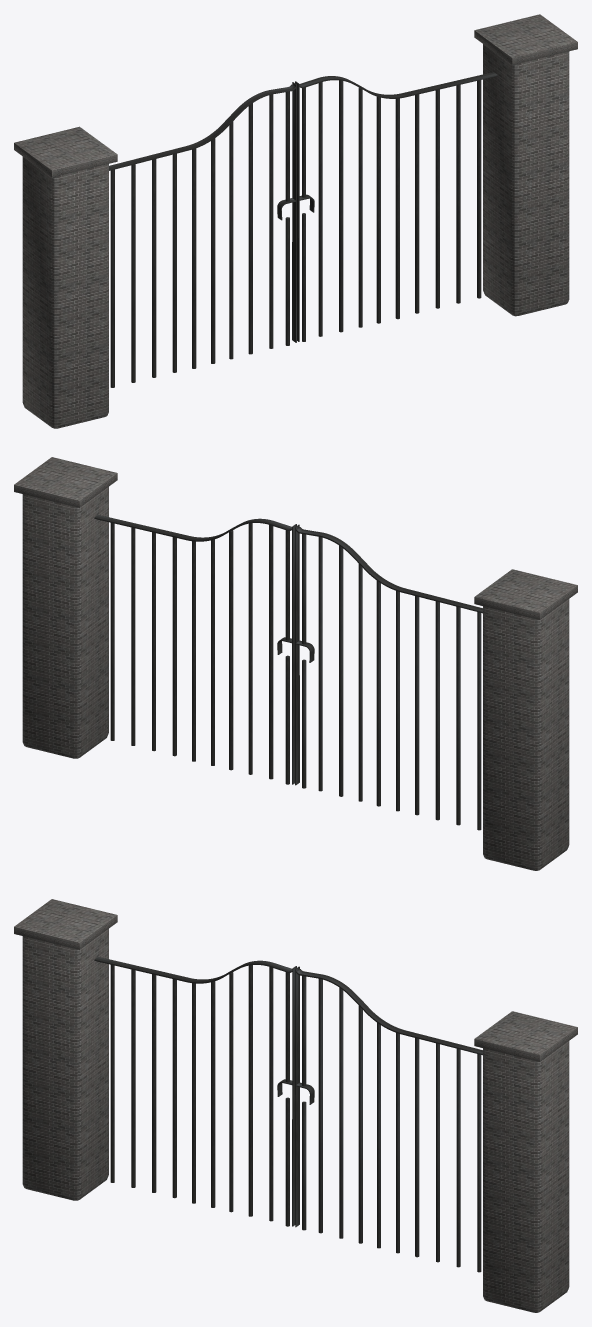
Rendered from GATE.fbx.
The picture shows the model from 3 angles, top to bottom: view 1: azimuth 30°, elevation 25°; view 2: azimuth 150°, elevation 25°; view 3: azimuth 330°, elevation 25°; orthographic projection.
Visible parts, largest first — view 1: column_2, column, tile, tile_2, frame5_4, Cylinder_4_8, Cylinder_4_4, Cylinder_3_5, Cylinder_3_10, Top_frame_4, Cylinder_2_5, Cylinder_2_10 (+16 smaller); view 2: column_2, column, tile, tile_2, frame5_4, Cylinder_4_8, Cylinder_4_4, Cylinder_3_5, Cylinder_3_10, Top_frame_4, Cylinder_2_5, Cylinder_2_10 (+18 smaller); view 3: column, column_2, tile_2, tile, frame5_2, Cylinder_4_4, Cylinder_4_8, Cylinder_3_10, Cylinder_3_5, Top_frame, Cylinder_2_10, Cylinder_2_5 (+18 smaller).
Boxes of the visible parts, bbox=[...] form: column_2: bbox=[22, 156, 108, 428]; column: bbox=[483, 44, 569, 316]; tile: bbox=[474, 14, 577, 65]; tile_2: bbox=[14, 126, 117, 177]; frame5_4: bbox=[292, 82, 296, 342]; Cylinder_4_8: bbox=[269, 94, 273, 348]; Cylinder_4_4: bbox=[318, 82, 322, 336]; Cylinder_3_5: bbox=[339, 80, 343, 332]; Cylinder_3_10: bbox=[248, 103, 252, 354]; Top_frame_4: bbox=[109, 84, 296, 170]; Cylinder_2_5: bbox=[358, 87, 362, 327]; Cylinder_2_10: bbox=[229, 121, 233, 359]; column_2: bbox=[483, 599, 569, 870]; column: bbox=[22, 487, 108, 758]; tile: bbox=[14, 457, 117, 507]; tile_2: bbox=[474, 569, 577, 619]; frame5_4: bbox=[295, 524, 299, 785]; Cylinder_4_8: bbox=[318, 537, 322, 791]; Cylinder_4_4: bbox=[269, 525, 273, 779]; Cylinder_3_5: bbox=[248, 523, 252, 774]; Cylinder_3_10: bbox=[339, 545, 343, 796]; Top_frame_4: bbox=[296, 527, 482, 613]; Cylinder_2_5: bbox=[229, 530, 233, 770]; Cylinder_2_10: bbox=[358, 564, 362, 801]; column: bbox=[483, 1041, 569, 1312]; column_2: bbox=[22, 929, 108, 1200]; tile_2: bbox=[14, 899, 117, 949]; tile: bbox=[474, 1011, 577, 1061]; frame5_2: bbox=[295, 966, 299, 1227]; Cylinder_4_4: bbox=[318, 978, 322, 1233]; Cylinder_4_8: bbox=[269, 967, 273, 1221]; Cylinder_3_10: bbox=[248, 965, 252, 1216]; Cylinder_3_5: bbox=[339, 987, 343, 1238]; Top_frame: bbox=[296, 969, 482, 1055]; Cylinder_2_10: bbox=[229, 972, 233, 1212]; Cylinder_2_5: bbox=[358, 1005, 362, 1243].
Size of the model in its own units: 577 by 286 by 72.63.
5 materials, 5 textured.
